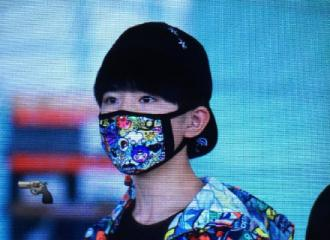OK: (96, 84, 184, 172)
